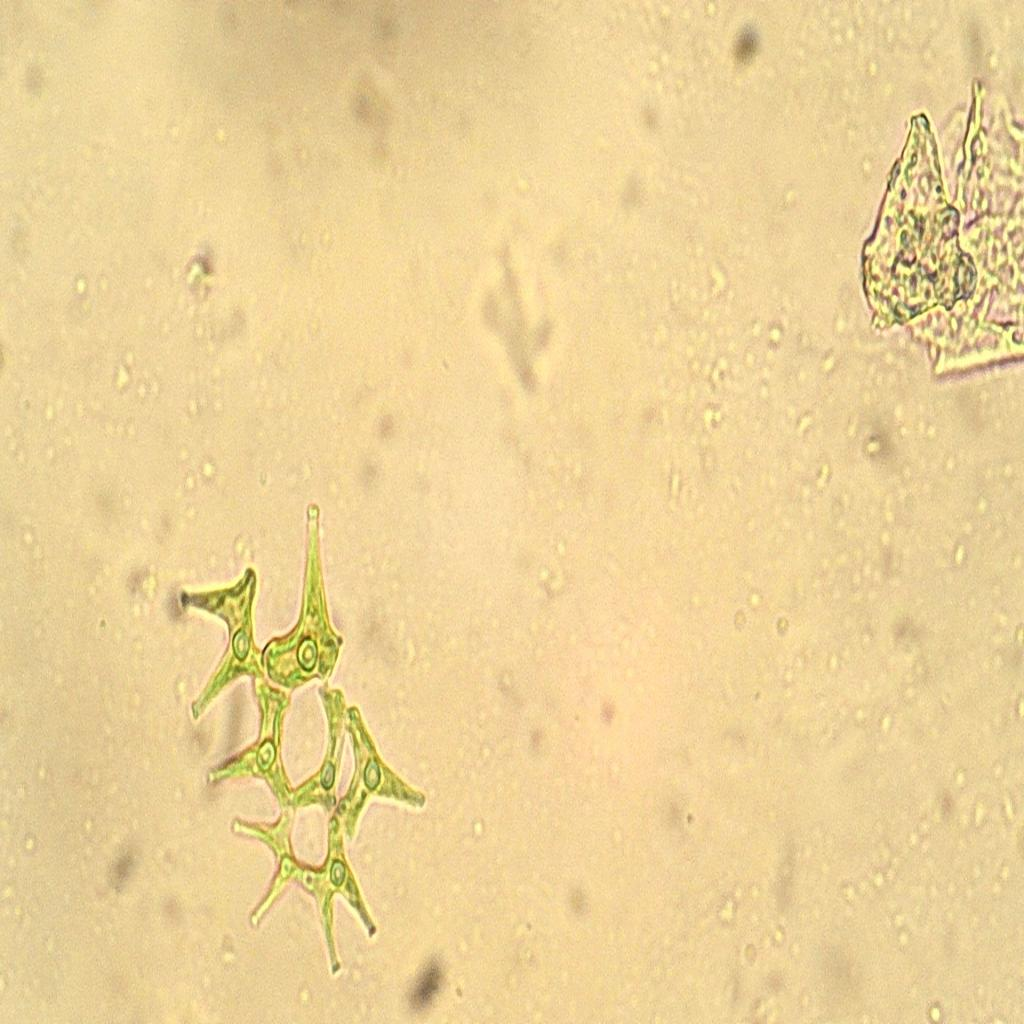Pediastrum_CFI: (166, 488, 435, 998)
